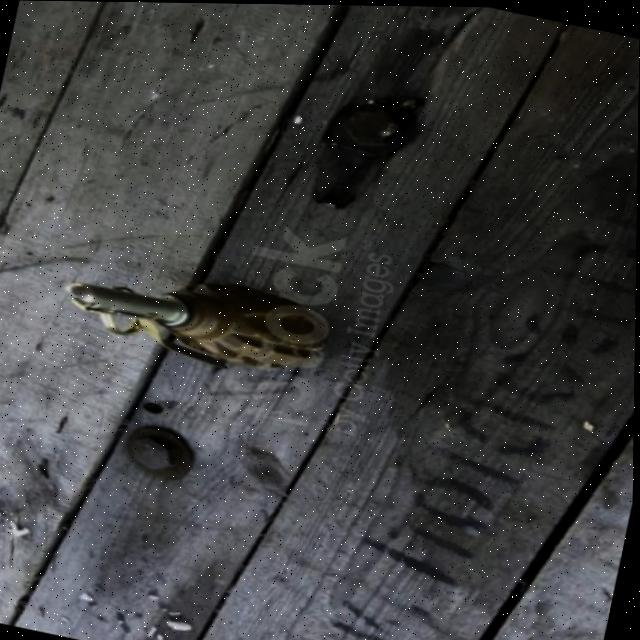grenade: (49, 250, 354, 390)
